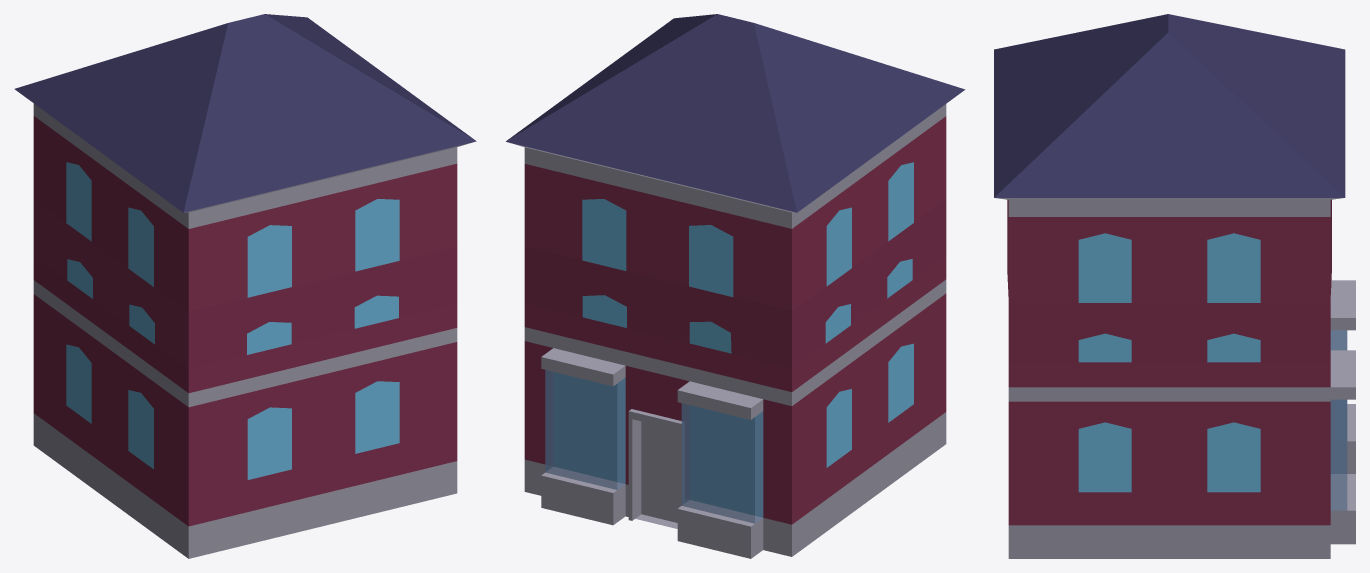
The model's file is HOUSE_STORE_2_REDUCED.fbx.
3 views of the same model, side by side, from view 1: azimuth 30°, elevation 25°; view 2: azimuth 150°, elevation 25°; view 3: azimuth 270°, elevation 25° (orthographic). The views are drawn at different scales.
Visible parts, largest first — view 1: House 2; view 2: House 2; view 3: House 2.
Boxes of the visible parts, box(x1,y1,x2,y2) form: House 2: box(14, 14, 476, 558); House 2: box(506, 14, 965, 558); House 2: box(994, 14, 1355, 558).
Size of the model in its own units: 1132 by 1664 by 1166.
